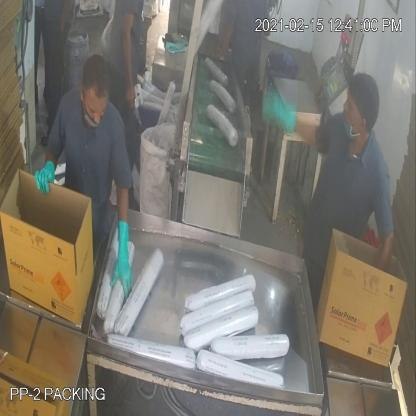glove: (254, 77, 296, 140), (113, 208, 136, 308), (32, 154, 67, 207)
no_glove: (119, 6, 139, 121), (207, 25, 234, 62), (59, 1, 75, 42)
